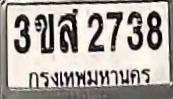2: (86, 12, 104, 51)
3: (13, 13, 30, 53), (126, 10, 142, 50)
7: (105, 11, 122, 51)
8: (146, 10, 161, 49)
A02: (34, 13, 54, 53)
A40: (57, 8, 78, 52)
BKK: (27, 67, 152, 90)
